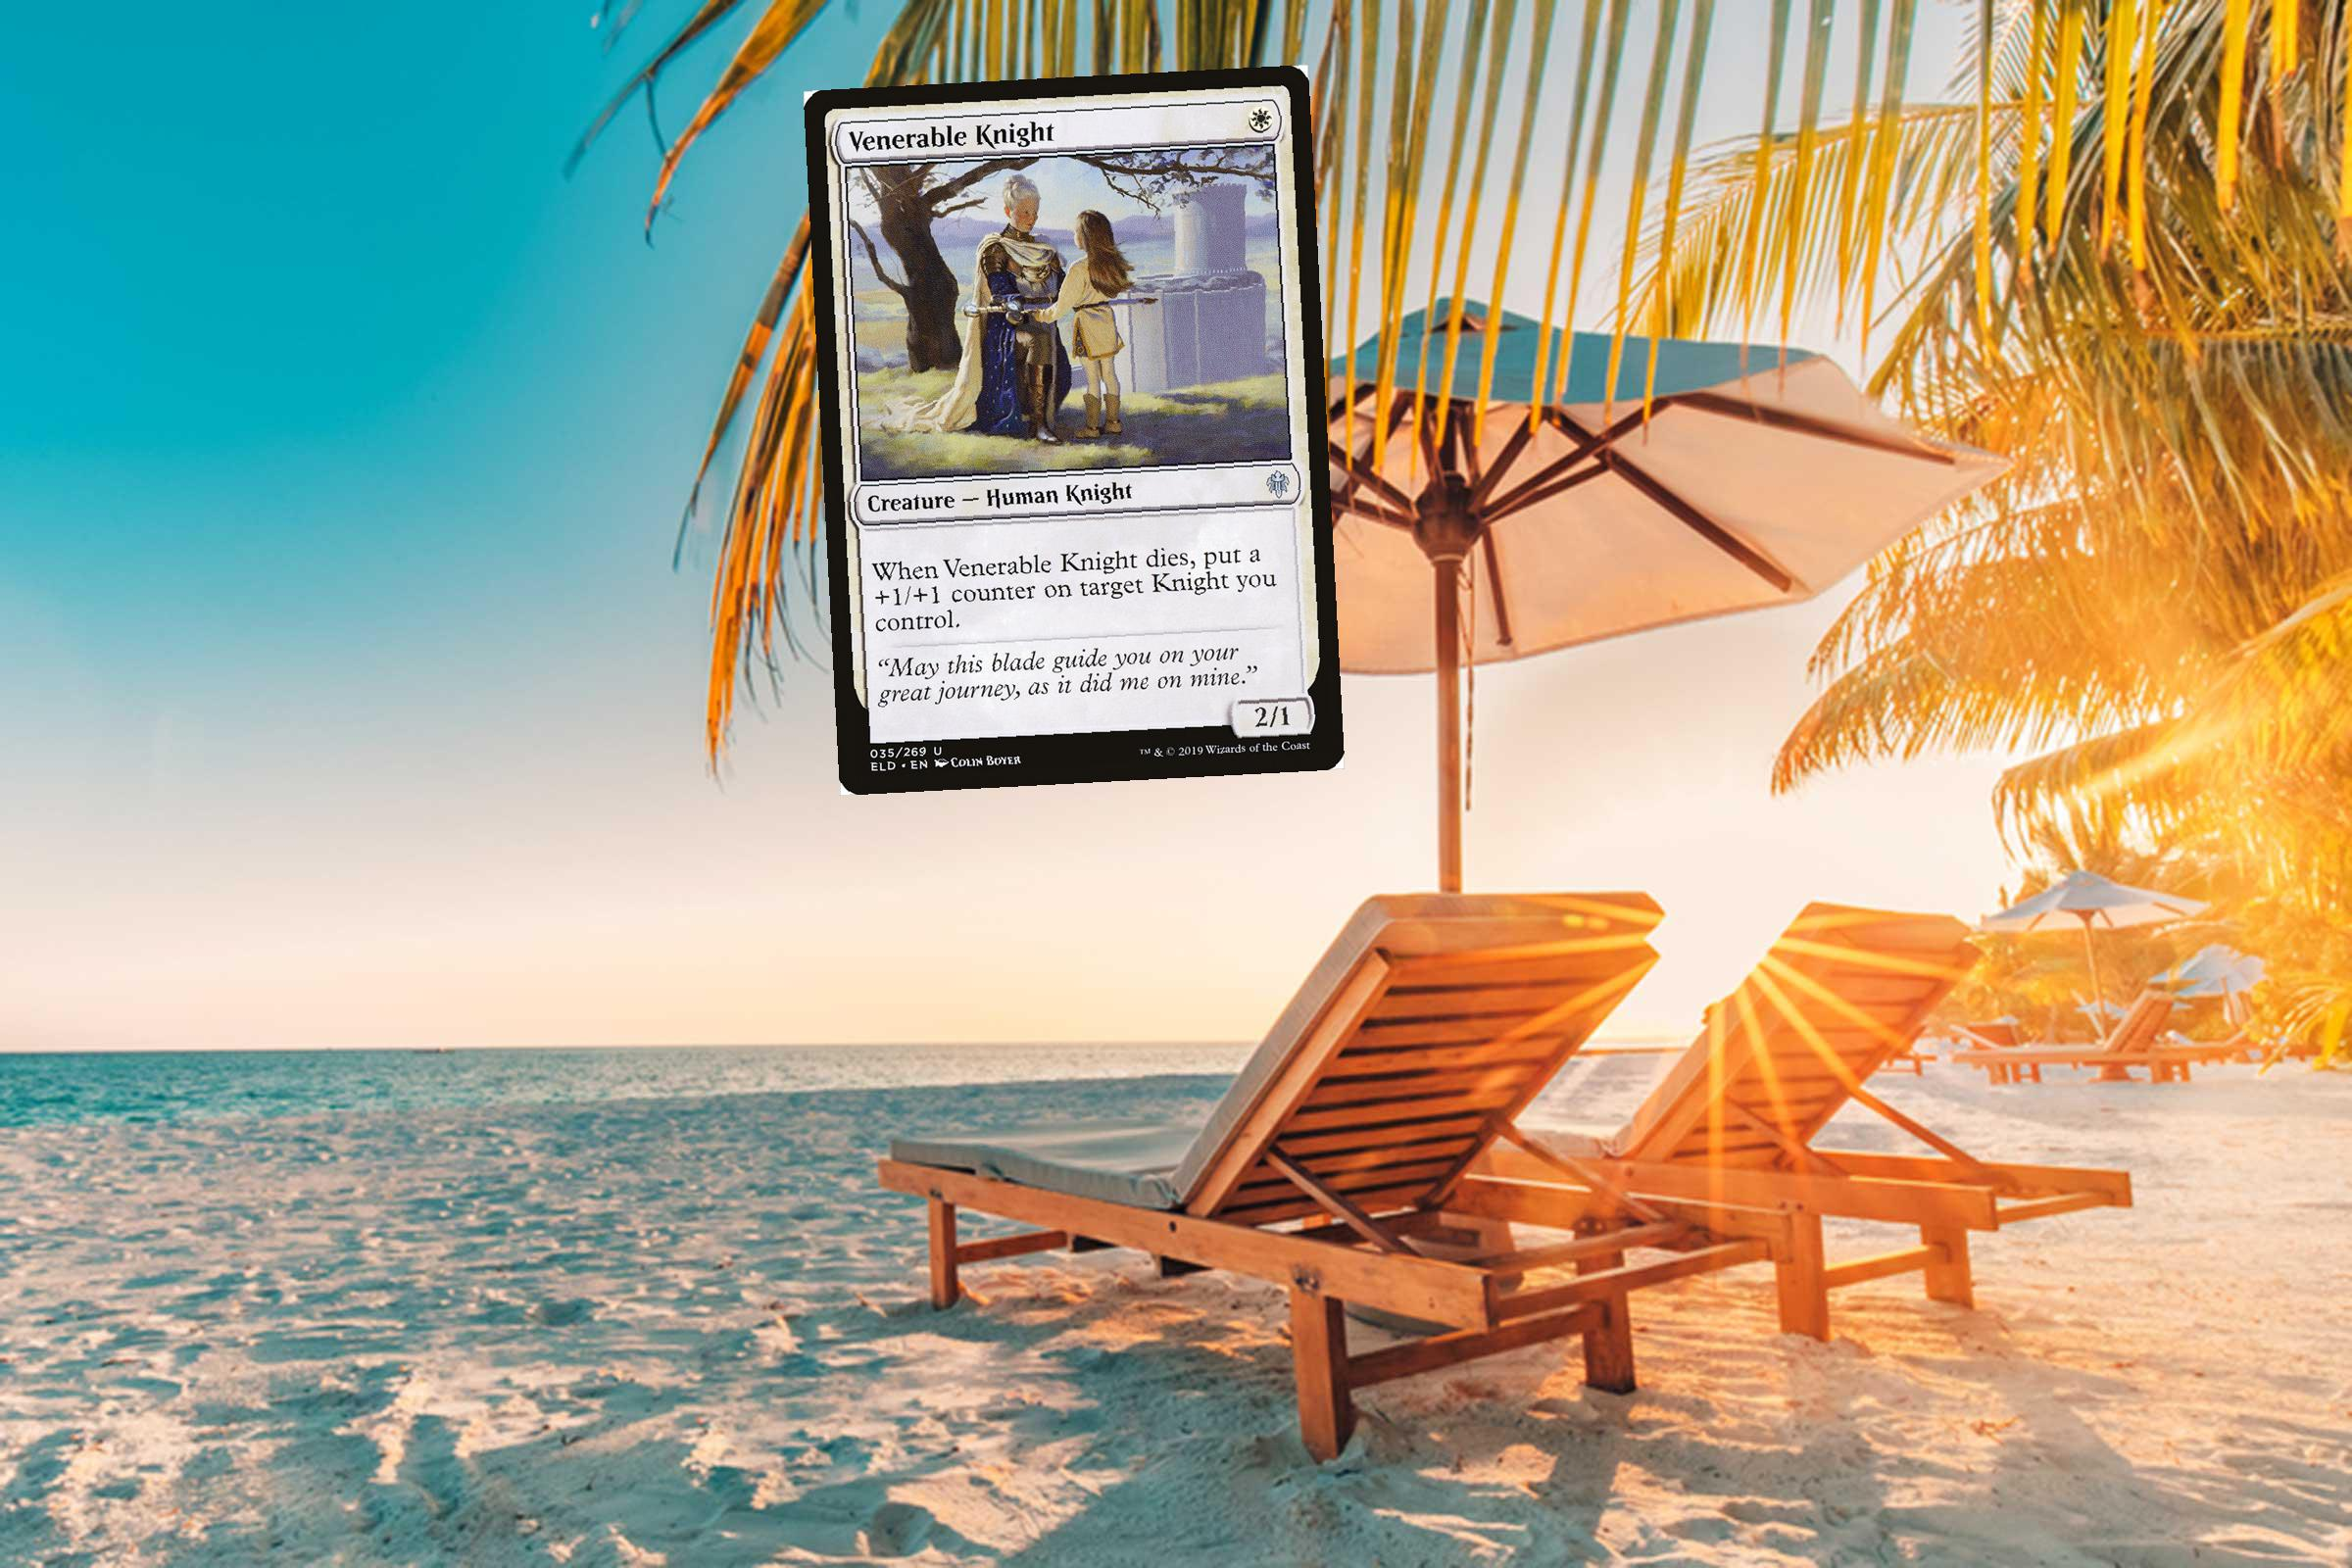mtgCard: (803, 63, 1346, 796)
